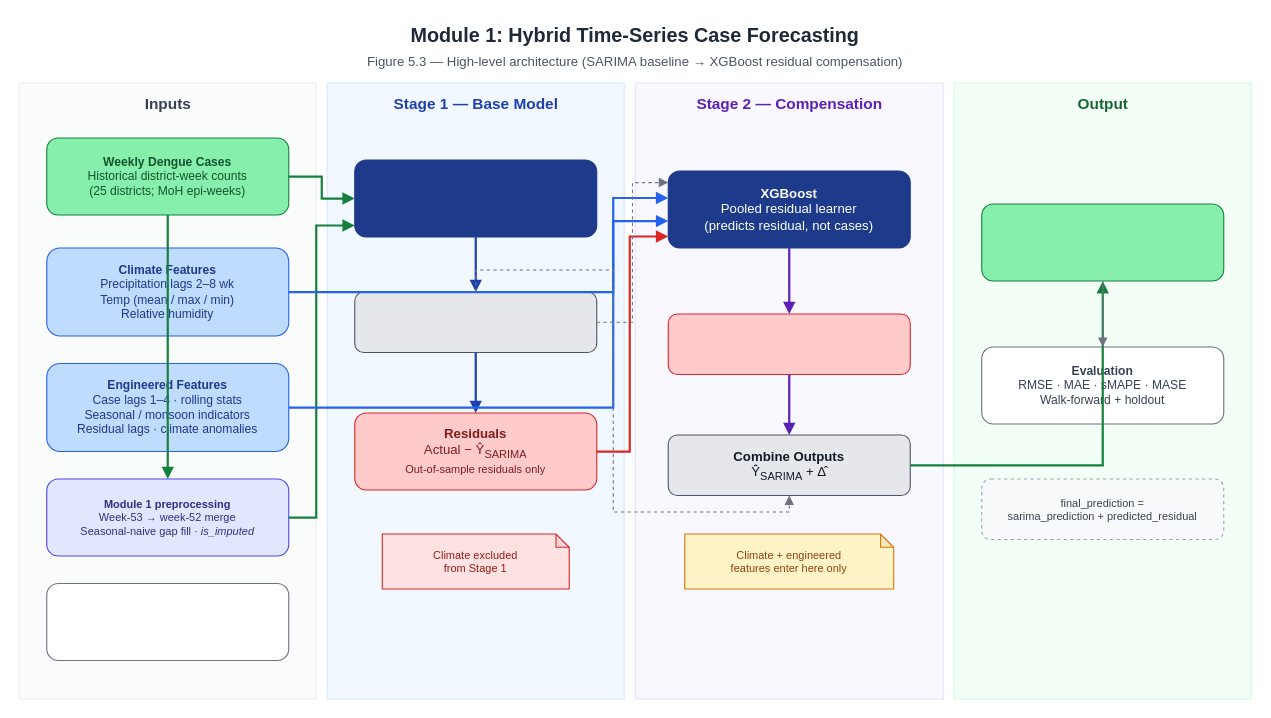
The diagram is 1271 pixels wide and 718 high, and some of its shapes have lost their labels. The centre of each missing label's shape, as x and y in pixels:
"Base Prediction Ŷ SARIMA per week" belongs at (x=475, y=322).
"Data Sources Epidemiology Unit, MoH Open-Meteo climate API" belongs at (x=167, y=621).
"Forecast Weekly case count (compensated prediction)" belongs at (x=1102, y=242).
"Residual Correction Δ̂ per week" belongs at (x=788, y=344).
"SARIMA Per-district base forecasting model (cases only — climate excluded)" belongs at (x=475, y=198).
